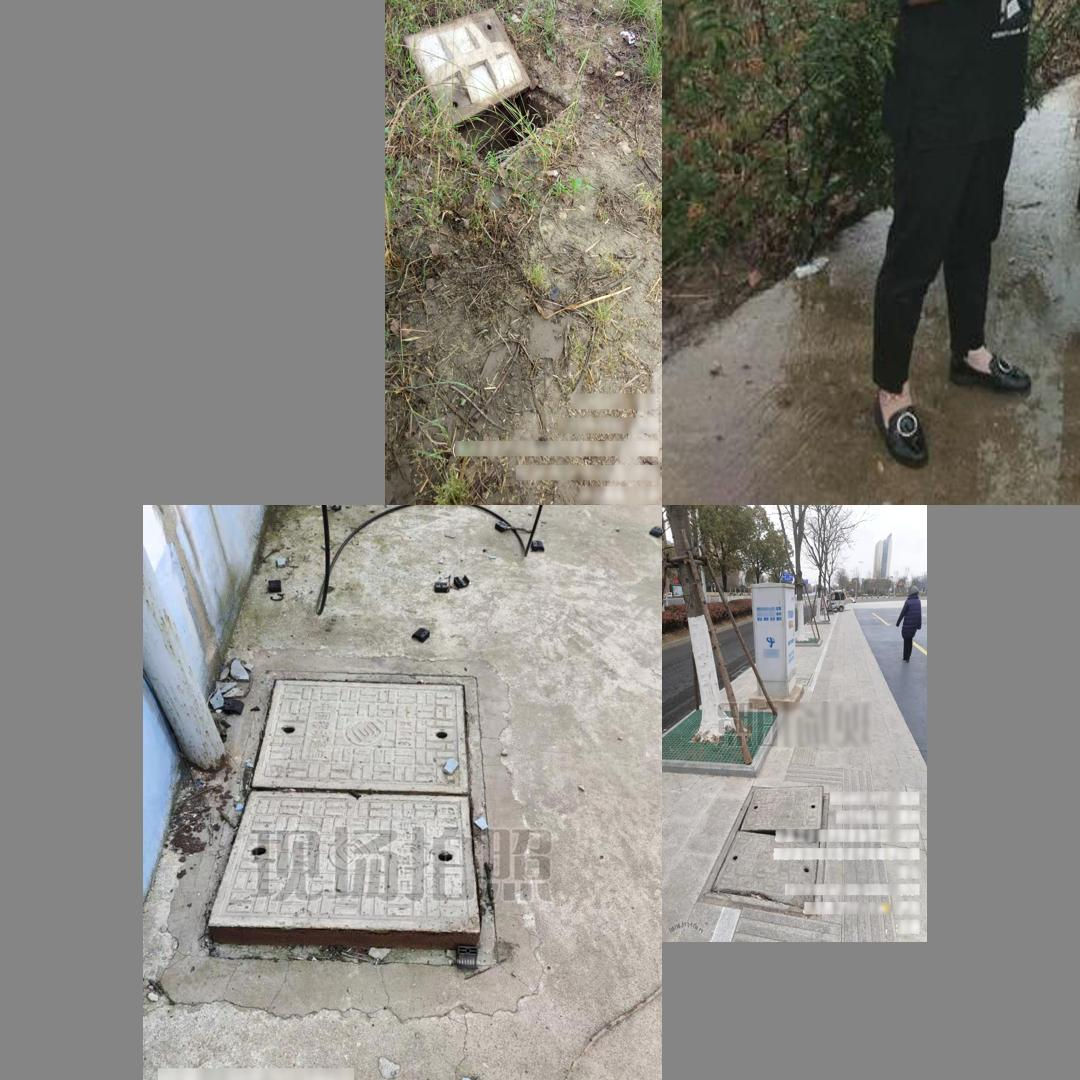uncovered: (193, 668, 498, 966), (402, 8, 571, 166), (695, 783, 832, 919)
